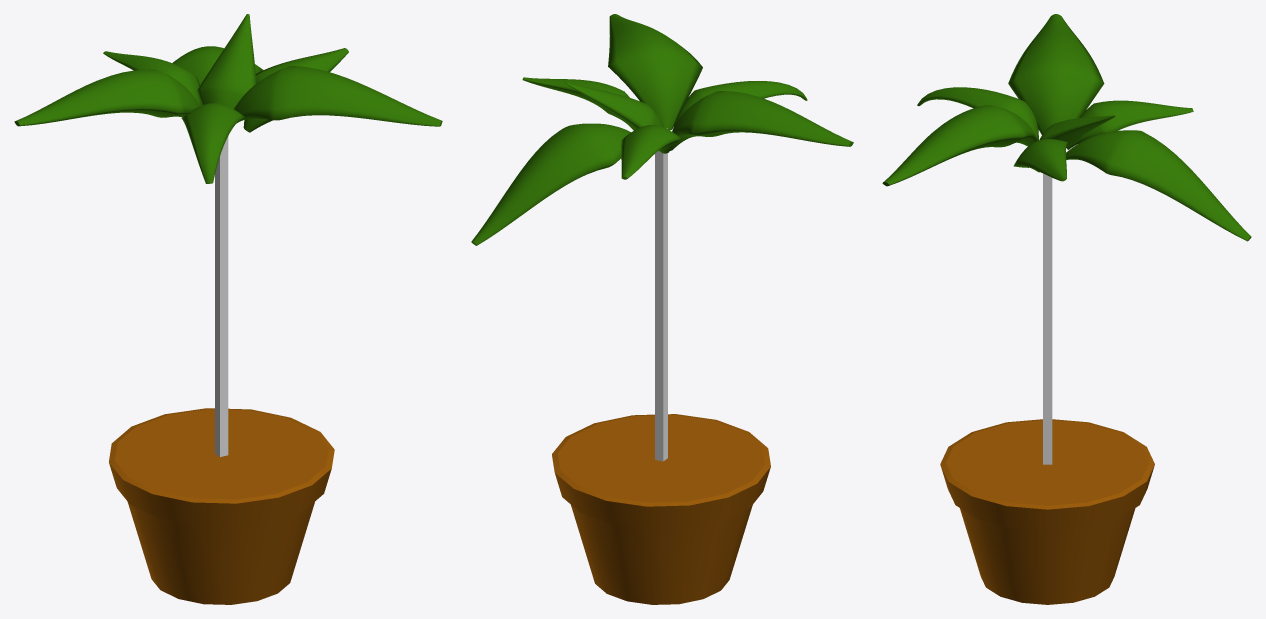
File: tree long.fbx
The picture shows the model from 3 angles, left to right: view 1: azimuth 30°, elevation 25°; view 2: azimuth 150°, elevation 25°; view 3: azimuth 270°, elevation 25°; orthographic projection. The views are drawn at different scales.
Visible parts, largest first — view 1: Cylinder.001, BezierCurve.010, BezierCurve.009, Cube.037, BezierCurve.015, BezierCurve.013, BezierCurve.012, BezierCurve.014, BezierCurve.011; view 2: Cylinder.001, BezierCurve.011, BezierCurve.010, BezierCurve.009, Cube.037, BezierCurve.012, BezierCurve.015, BezierCurve.013, BezierCurve.014; view 3: Cylinder.001, BezierCurve.009, BezierCurve.011, BezierCurve.010, Cube.037, BezierCurve.012, BezierCurve.013, BezierCurve.014, BezierCurve.015.
Part boxes in pixels (box(x1,y1,x2,y2)): Cylinder.001: box(109, 408, 334, 604); BezierCurve.010: box(234, 66, 442, 126); BezierCurve.009: box(14, 69, 199, 126); Cube.037: box(215, 136, 228, 456); BezierCurve.015: box(197, 14, 256, 108); BezierCurve.013: box(181, 103, 244, 183); BezierCurve.012: box(103, 51, 201, 105); BezierCurve.014: box(243, 48, 348, 132); BezierCurve.011: box(172, 46, 263, 84); Cylinder.001: box(552, 414, 770, 604); BezierCurve.011: box(471, 123, 630, 245); BezierCurve.010: box(608, 14, 702, 130); BezierCurve.009: box(670, 91, 853, 150); Cube.037: box(655, 128, 667, 461); BezierCurve.012: box(621, 125, 680, 179); BezierCurve.015: box(565, 82, 664, 129); BezierCurve.013: box(673, 81, 807, 128); BezierCurve.014: box(522, 77, 634, 130); Cylinder.001: box(940, 419, 1154, 604); BezierCurve.009: box(1008, 14, 1104, 134); BezierCurve.011: box(1066, 130, 1251, 241); BezierCurve.010: box(882, 105, 1037, 186); Cube.037: box(1043, 173, 1052, 464); BezierCurve.012: box(1066, 100, 1193, 149); BezierCurve.013: box(917, 87, 1038, 140); BezierCurve.014: box(1013, 139, 1067, 181); BezierCurve.015: box(1039, 115, 1116, 146).
Bounding box in the file's own units: 361 × 531 × 363.
